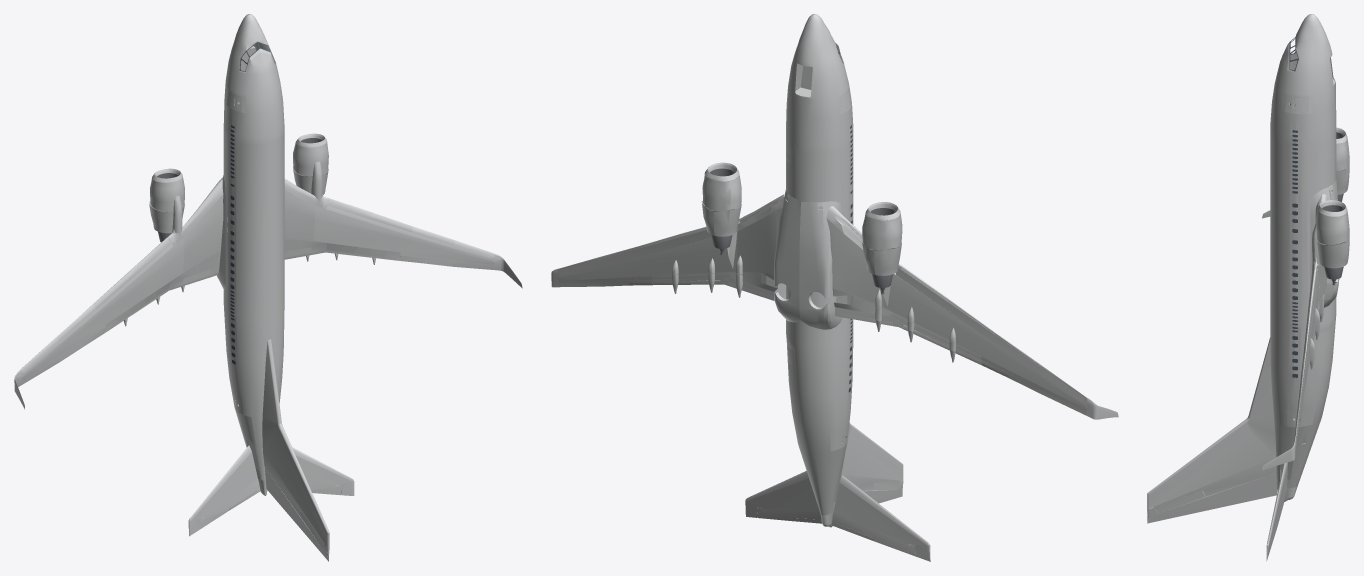
3 views of the same model, side by side, from view 1: azimuth 30°, elevation 25°; view 2: azimuth 150°, elevation 25°; view 3: azimuth 270°, elevation 25° (orthographic). The views are drawn at different scales.
Parts seen in each view (by area): view 1: B737; view 2: B737; view 3: B737.
Boxes of the visible parts, x1=… form: B737: x1=14, y1=14, x2=522, y2=561; B737: x1=551, y1=14, x2=1118, y2=561; B737: x1=1147, y1=14, x2=1349, y2=561.
Bounding box in the file's own units: 35.74 × 33.63 × 12.13.
